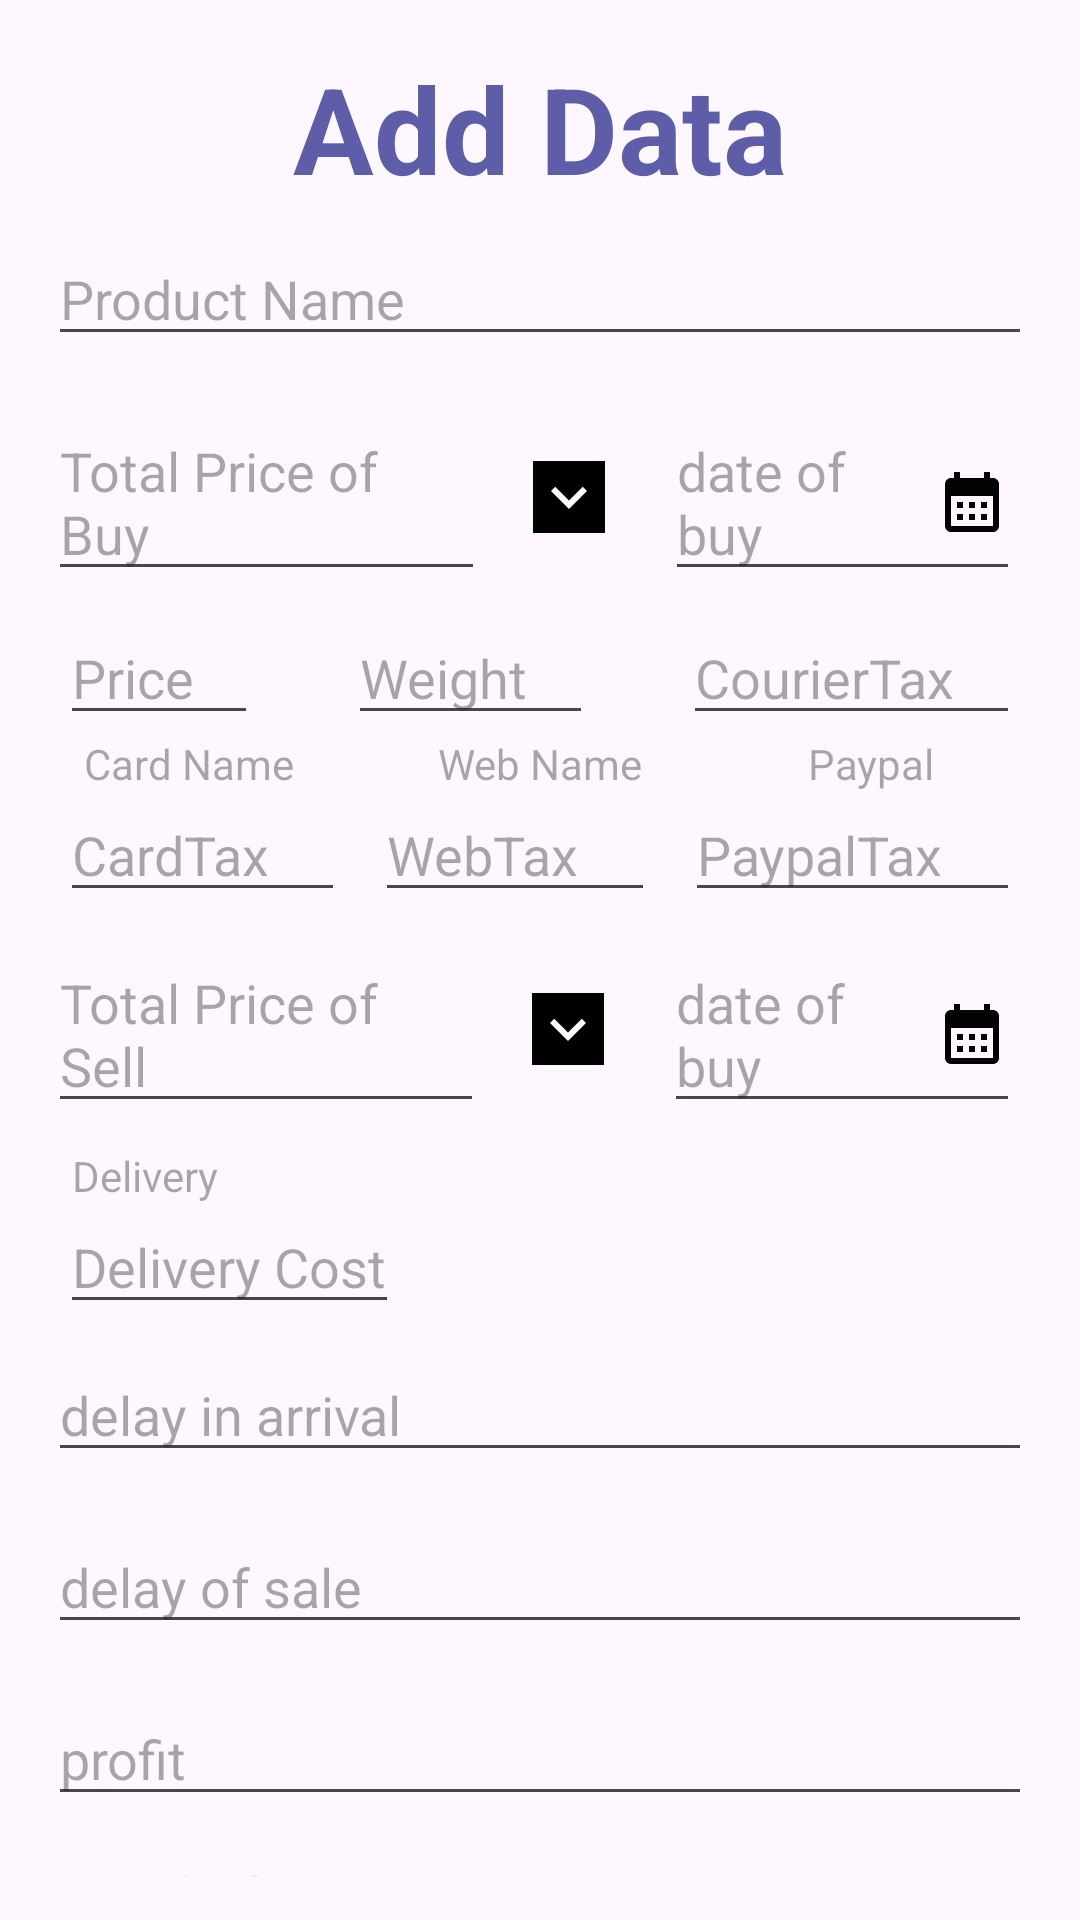

Icons on this 1080 x 1920 Android screen, each with the point to tap as (x=x, y=y):
expand: (x=569, y=497), (x=568, y=1029)
